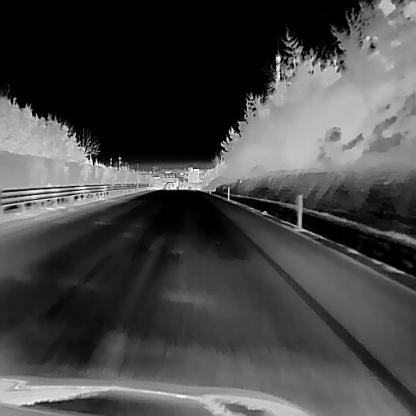car: (164, 180, 174, 190)
